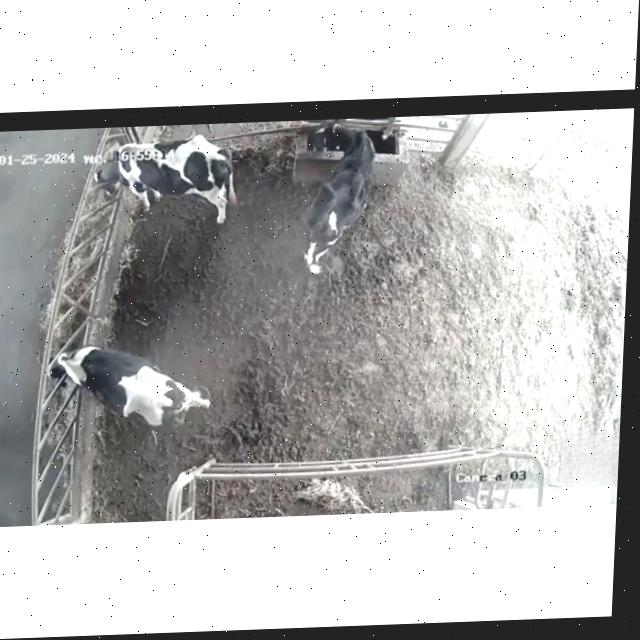drink: (304, 118, 382, 178)
eat: (79, 135, 157, 212), (24, 338, 107, 400)
